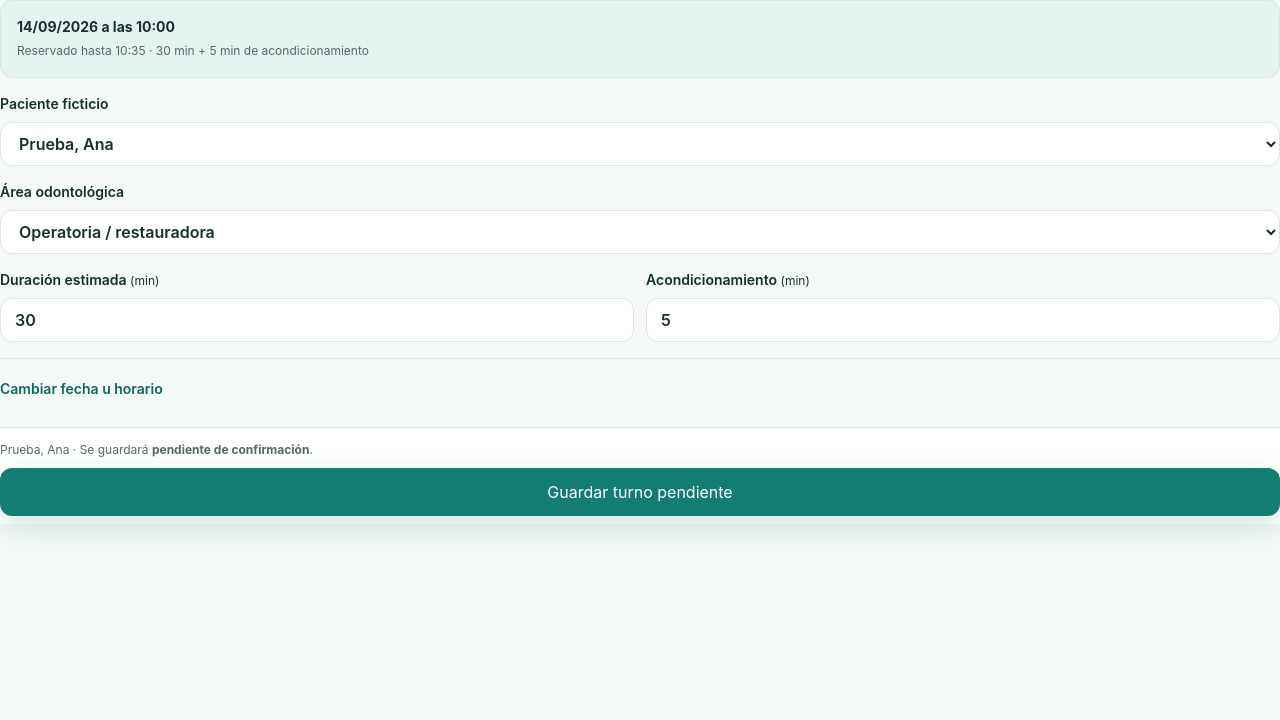
it: appointment time selection › explains invalidation and prevents submitting a now-occupied time
Replace the text in the number field labelled "Duración estimada (min)" with "45": (317, 320) [0, 298, 634, 342]
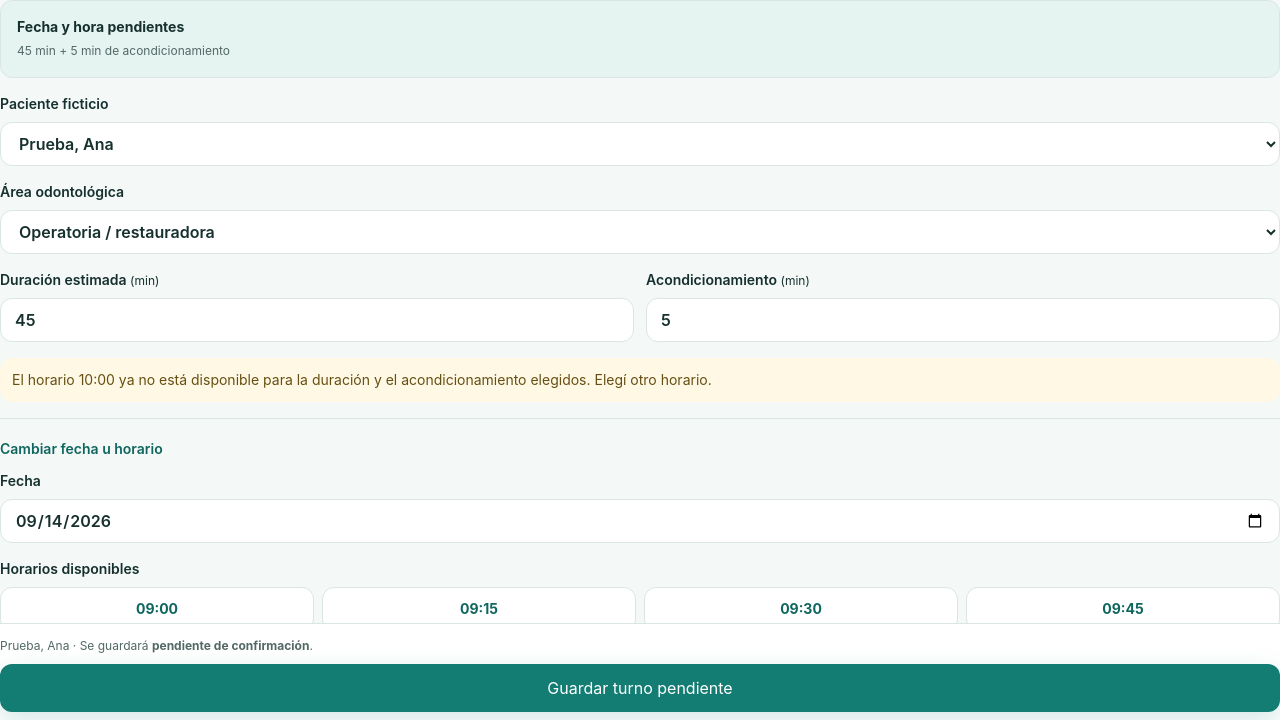
Result: the radio button labelled "09:00" is shown at [0, 587, 314, 631]
